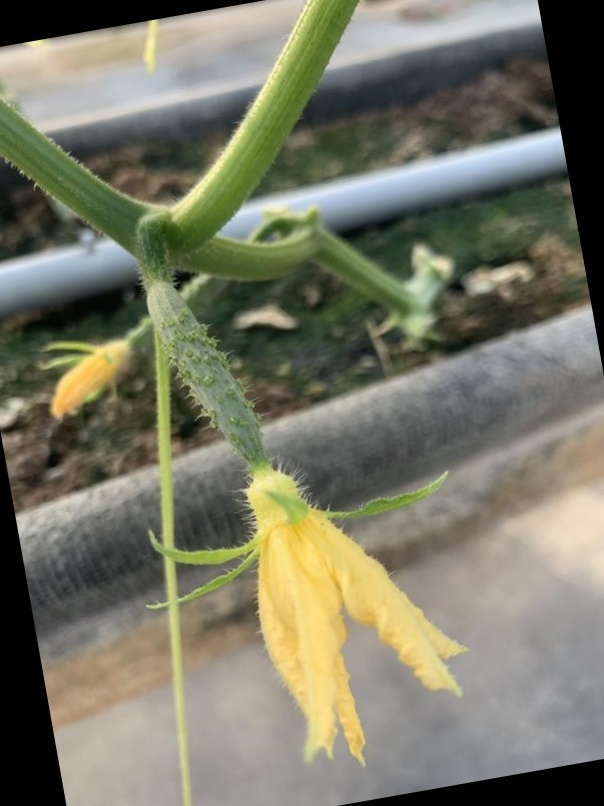bear: (119, 241, 494, 806)
